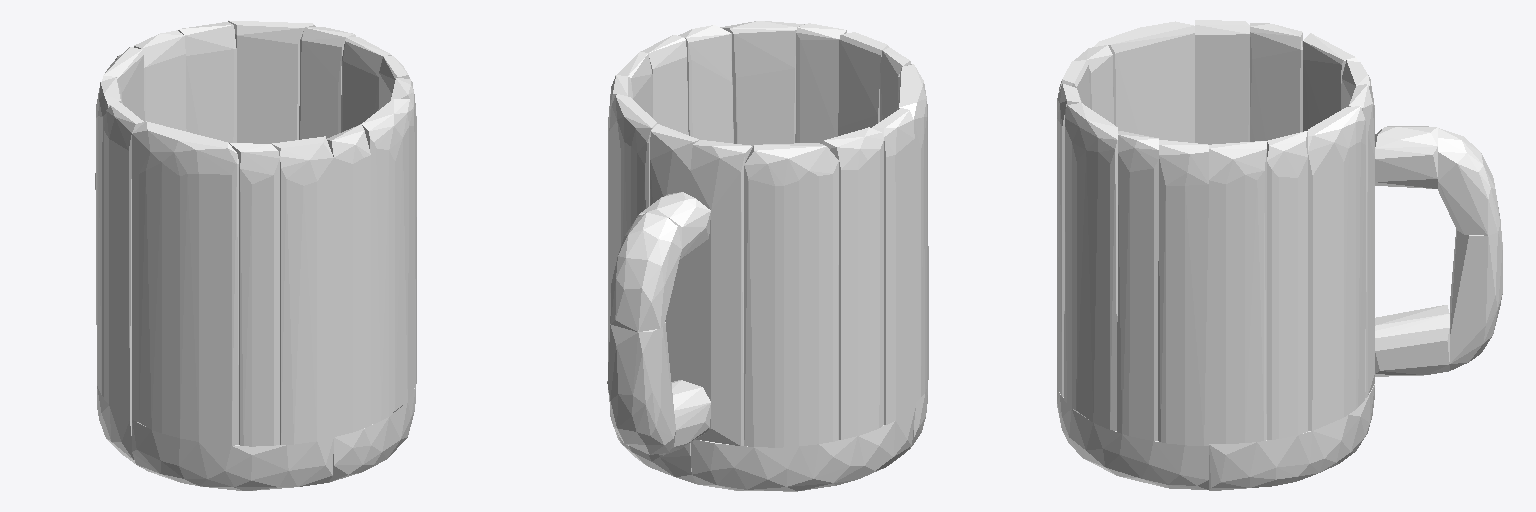
URDF robot description (cup):
<?xml version="1.0"?>
<robot name="cup">
    <material name="white">
        <color rgba="1 1 1 1"/>
    </material>
    <link name="base_link">
        <visual>
            <geometry>
                <mesh filename="cup.obj" scale="0.005 0.005 0.005"/>
            </geometry>
            <origin rpy="1.57 0 0" xyz="0 0 0" />
            <material name="white"/>
        </visual>

        <collision>
            <geometry>
                <mesh filename="cup.obj" scale="0.005 0.005 0.005"/>
            </geometry>
            <origin rpy="1.57 0 0" xyz="0 0 0" />
        </collision>
        <inertial>
            <mass value="1"/>
            <inertia ixx="0.000000000000001" ixy="0.0" ixz="0.0" iyy="0.000000000000001" iyz="0.0" izz="0.000000000000001"/>
        </inertial>
    </link>
</robot>

--- Render facts (derived) ---
Views: 3 orthographic renders of the robot side by side, from view 1: azimuth 30°, elevation 25°; view 2: azimuth 150°, elevation 25°; view 3: azimuth 270°, elevation 25°.
Model cup with 1 links and 0 joints (none), rooted at base_link, posed every joint at zero.
Links seen in each view (by area): view 1: base_link; view 2: base_link; view 3: base_link.
Boxes of the visible links, x1=… form: base_link: x1=95, y1=20, x2=416, y2=490; base_link: x1=607, y1=21, x2=928, y2=491; base_link: x1=1057, y1=20, x2=1502, y2=490.
Bounding box of the posed robot: 0.1188 × 0.1665 × 0.1422 m (x, y, z).
1 mesh visuals loaded from 1 distinct referenced files (1 OBJ).